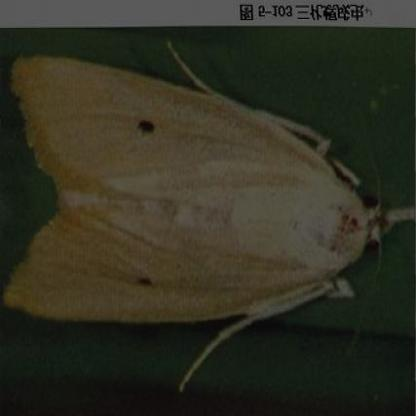stem-borer: (4, 40, 416, 393)
